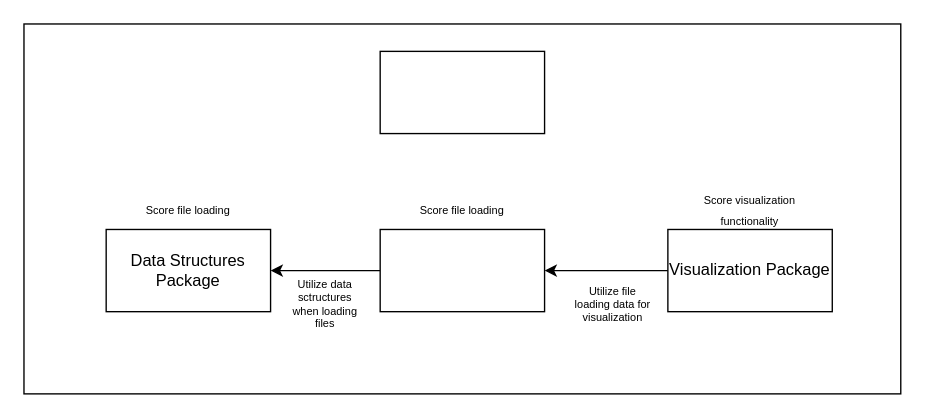
This 925x418 diagram has some shape labels left out. Here are the shapes that lost their labels. From the top down, the centre of each, then its label:
pixel 462 92: musicAI module
pixel 462 270: File I/O Package
